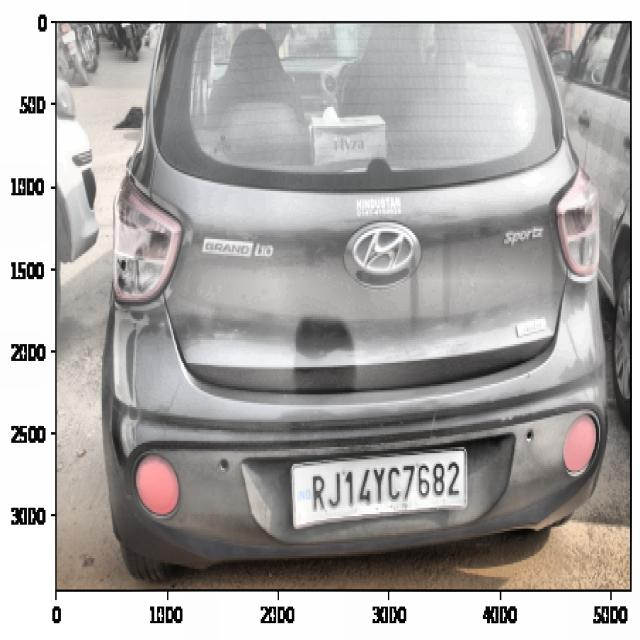license_plate: (299, 458, 466, 515)
